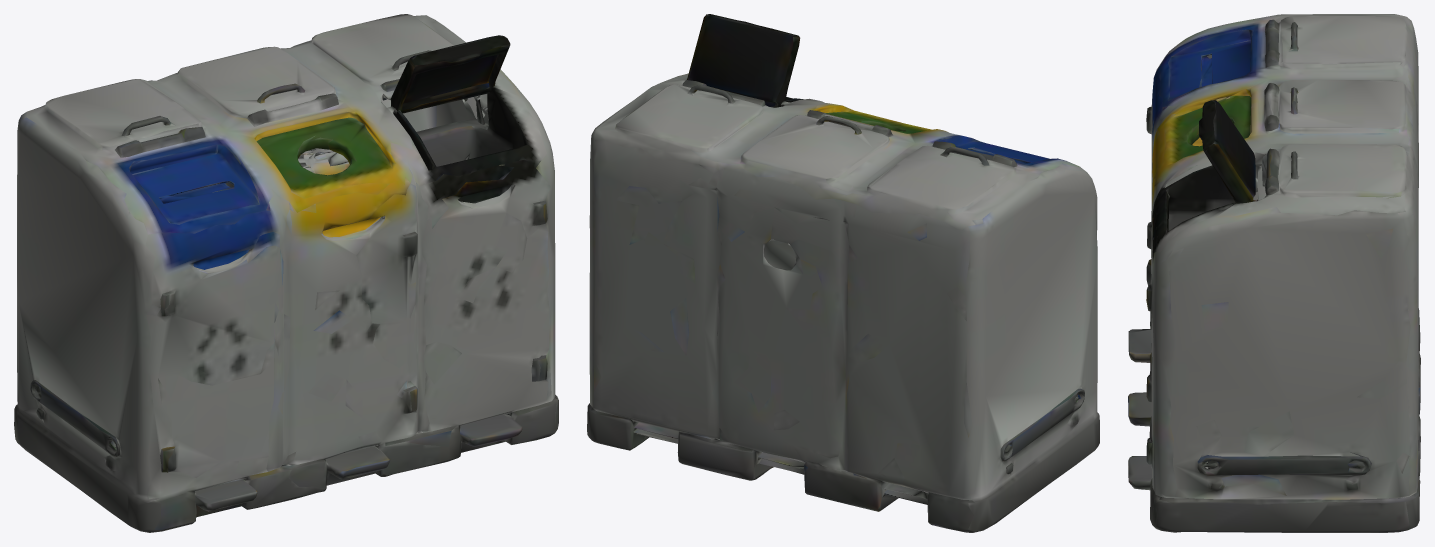
File: waste_basket.glb
3 renders of one model, left to right at view 1: azimuth 30°, elevation 25°; view 2: azimuth 150°, elevation 25°; view 3: azimuth 270°, elevation 25°, orthographic. The views are drawn at different scales.
Parts seen in each view (by area): view 1: geometry_0; view 2: geometry_0; view 3: geometry_0.
Boxes of the visible parts, x1,y1,x2,y2 form: geometry_0: (14, 14, 558, 532); geometry_0: (587, 14, 1099, 532); geometry_0: (1128, 14, 1420, 532).
Size of the model in its own units: 1 by 0.8645 by 0.6093.
1 material, 1 textured.
